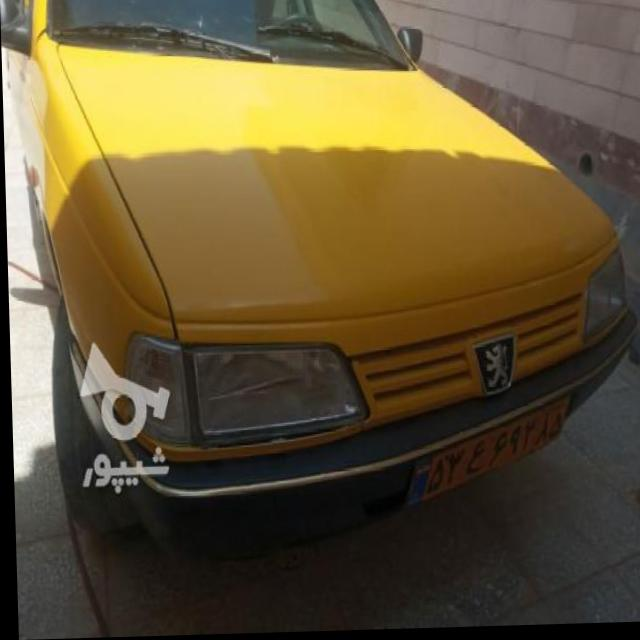licence: (396, 396, 569, 516)
